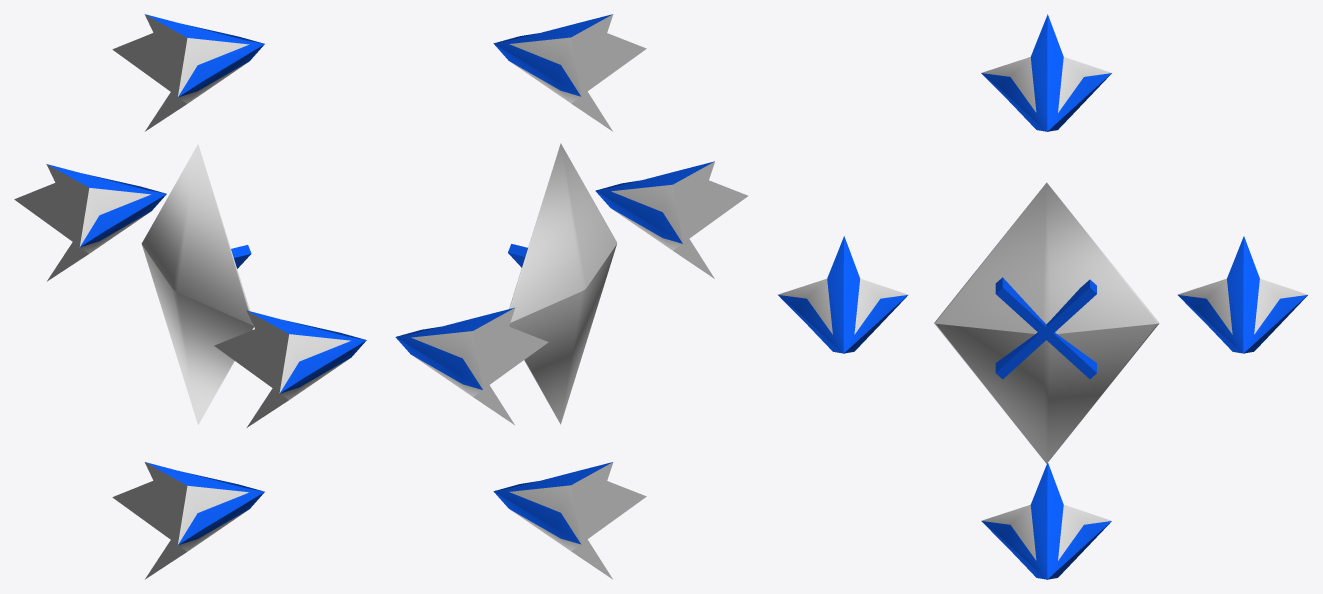
Rendered from Neon chaser.fbx.
3 views of the same model, side by side, from view 1: azimuth 30°, elevation 25°; view 2: azimuth 150°, elevation 25°; view 3: azimuth 270°, elevation 25° (orthographic).
Parts seen in each view (by area): view 1: Cone.006, Cube.007; view 2: Cone.006, Cube.007; view 3: Cube.007, Cone.006.
Part boxes in pixels (x1=…): Cone.006: x1=14, y1=14, x2=366, y2=579; Cube.007: x1=141, y1=144, x2=253, y2=424; Cone.006: x1=395, y1=14, x2=748, y2=579; Cube.007: x1=508, y1=143, x2=617, y2=424; Cube.007: x1=934, y1=182, x2=1159, y2=463; Cone.006: x1=778, y1=14, x2=1307, y2=579.
Size of the model in its own units: 242 by 1088 by 925.
